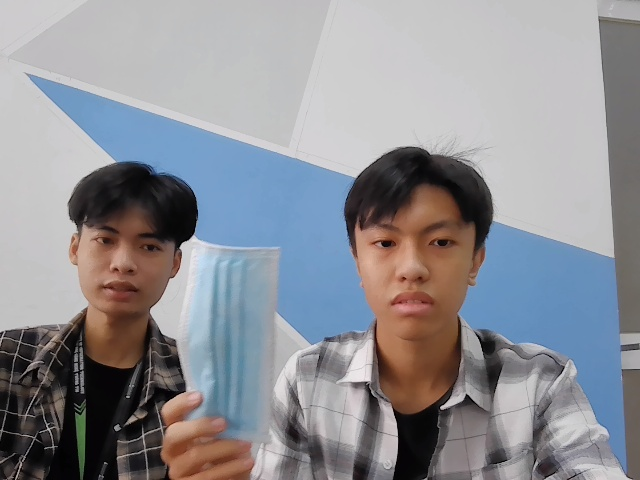human: (346, 145, 496, 340), (67, 161, 193, 327)
mask: (181, 236, 284, 448)
